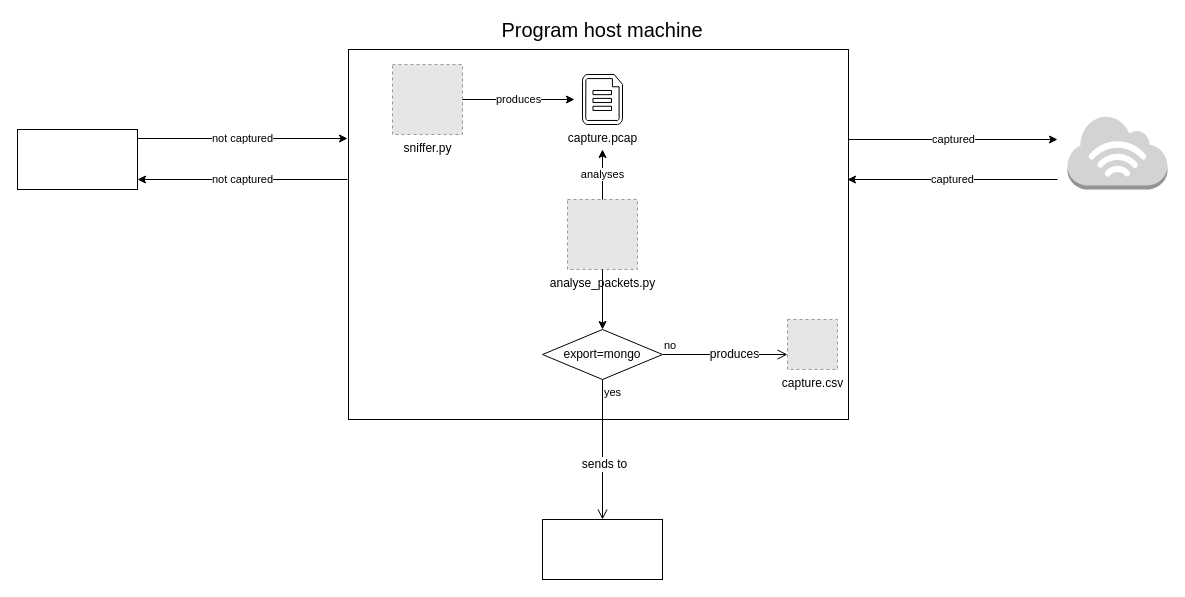
This 1185x597 diagram has some shape labels left out. Grey dashed boxes stand in for pictures. The shapes that lost their labels are listed below. From the top down, each one's centre as x and y in pixels, then its label:
At (77,159): "Device".
At (1117,152): "Network".
At (602,549): "MongoDB Cluster".
